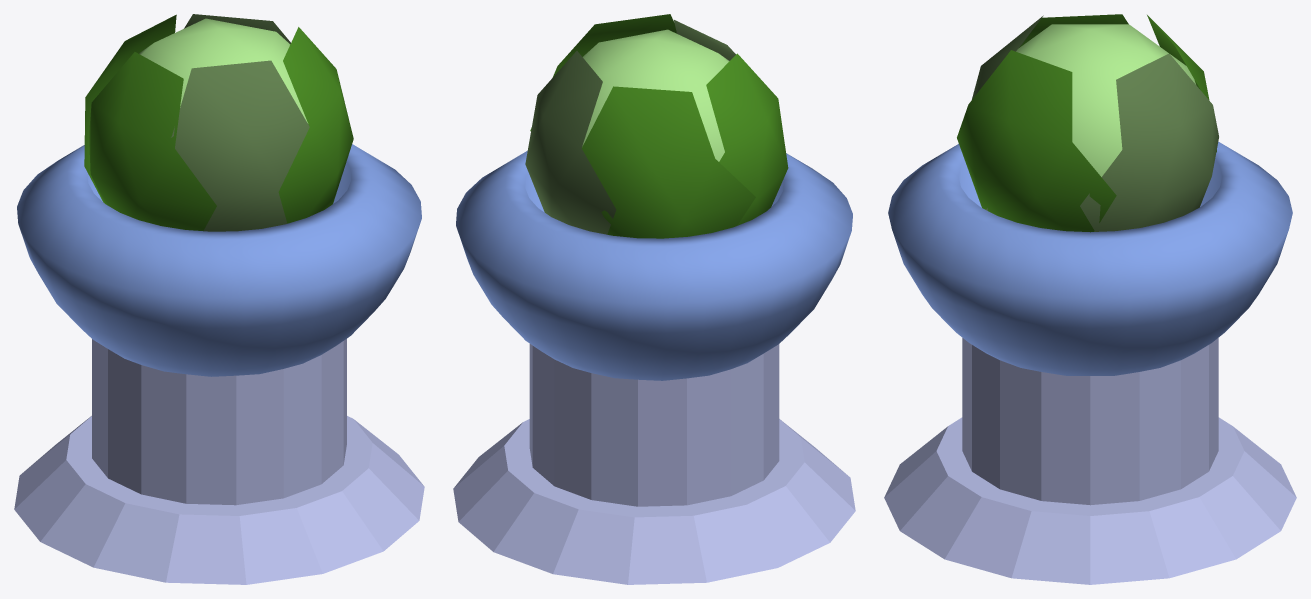
File: CabbageTower.glb
3 renders of one model, left to right at view 1: azimuth 30°, elevation 25°; view 2: azimuth 150°, elevation 25°; view 3: azimuth 270°, elevation 25°, orthographic.
Visible parts, largest first — view 1: Cube, Cube.001, Icosphere.001; view 2: Cube, Cube.001, Icosphere.001; view 3: Cube, Cube.001, Icosphere.001.
Boxes of the visible parts, x1=… form: Cube: x1=14, y1=339, x2=424, y2=584; Cube.001: x1=17, y1=144, x2=421, y2=376; Icosphere.001: x1=84, y1=14, x2=353, y2=231; Cube: x1=453, y1=344, x2=855, y2=584; Cube.001: x1=456, y1=151, x2=852, y2=380; Icosphere.001: x1=525, y1=14, x2=788, y2=238; Cube: x1=884, y1=338, x2=1296, y2=584; Cube.001: x1=888, y1=141, x2=1292, y2=375; Icosphere.001: x1=957, y1=14, x2=1218, y2=232.
Bounding box in the file's own units: 1.24 × 1.55 × 1.24.
